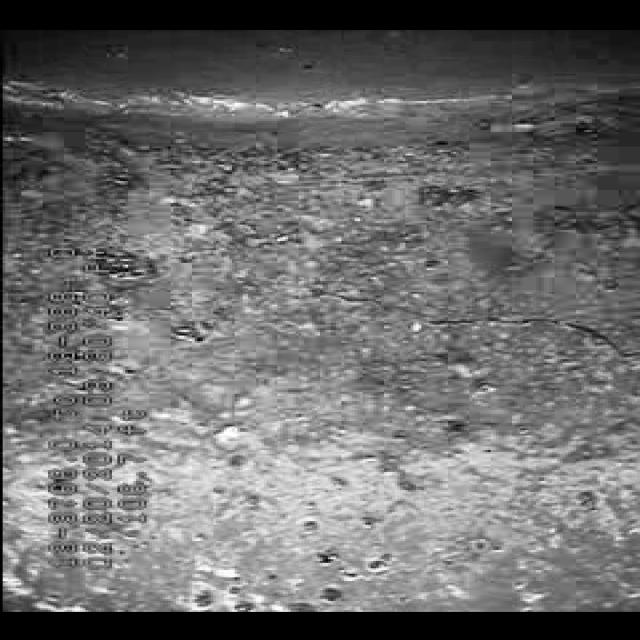Crack: (181, 264, 601, 370)
